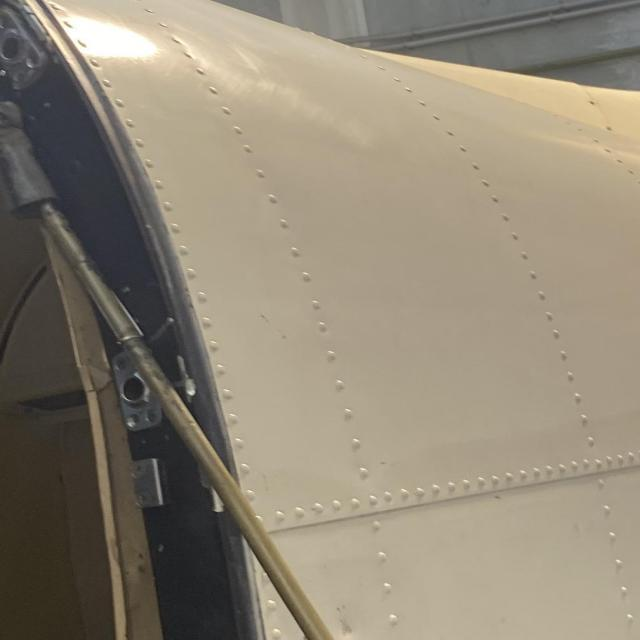Dent: (322, 604, 378, 640)
Paint-off: (483, 494, 519, 508)
